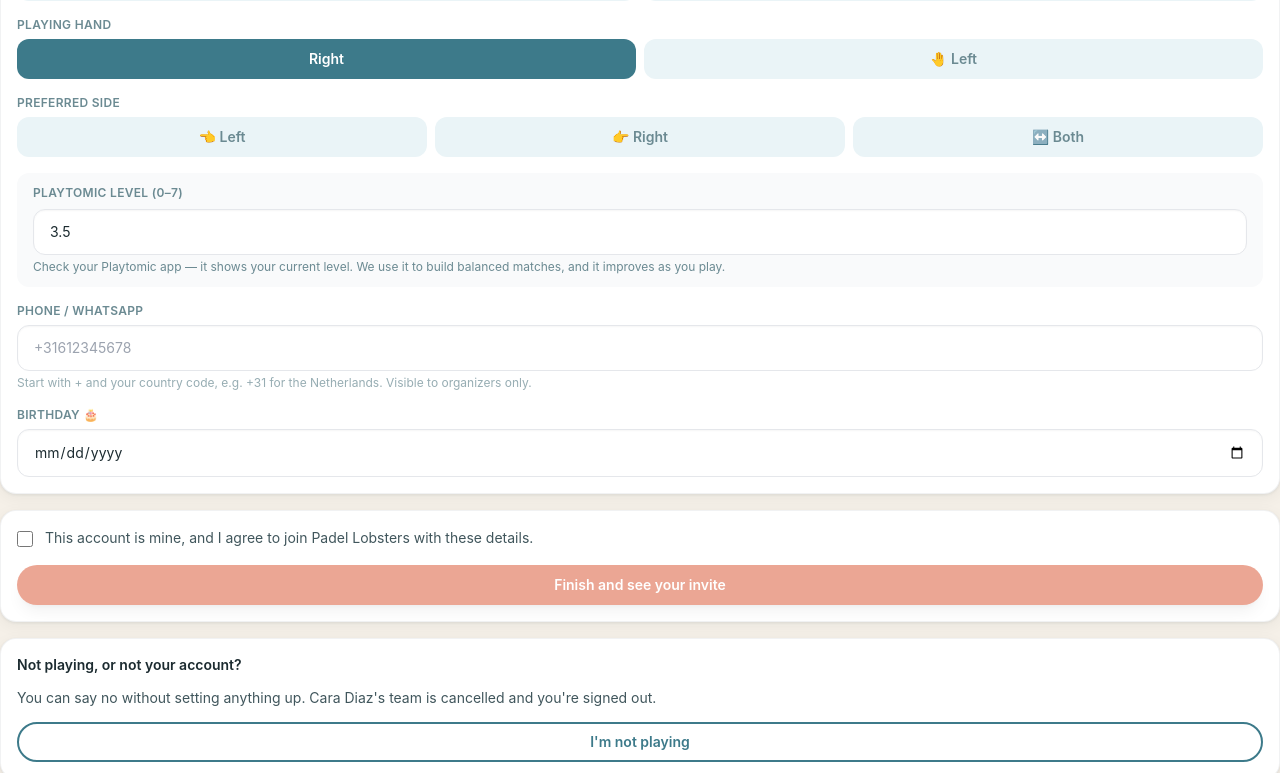
Test case: finish your account › shows what is missing instead of saving an incomplete profile
(page scrolled)
What coordinates should you click on to do the following:
click the checkbox
I would click on:
 (25, 538)
Its box is [17,530,33,546].
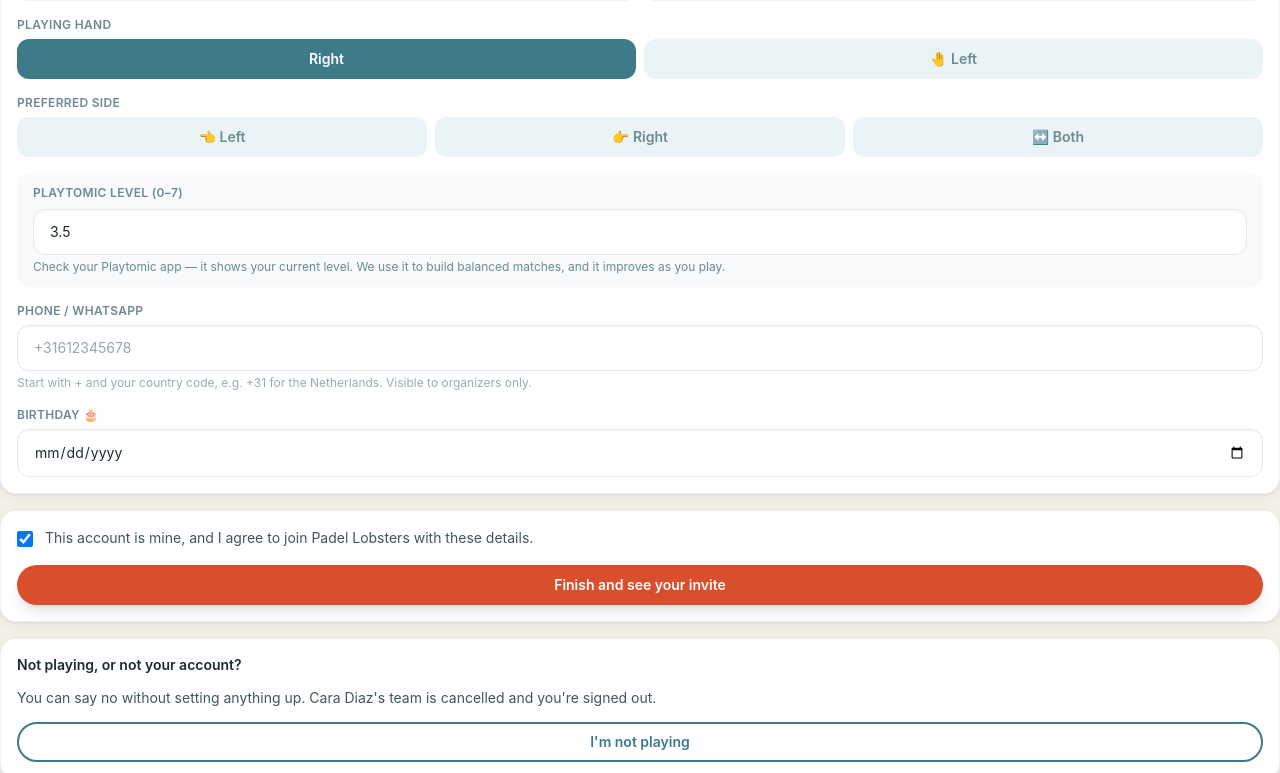
What coordinates should you click on to do the following:
click the button "Finish and see your invite"
I would click on:
 (640, 585)
Its box is [17,565,1263,605].
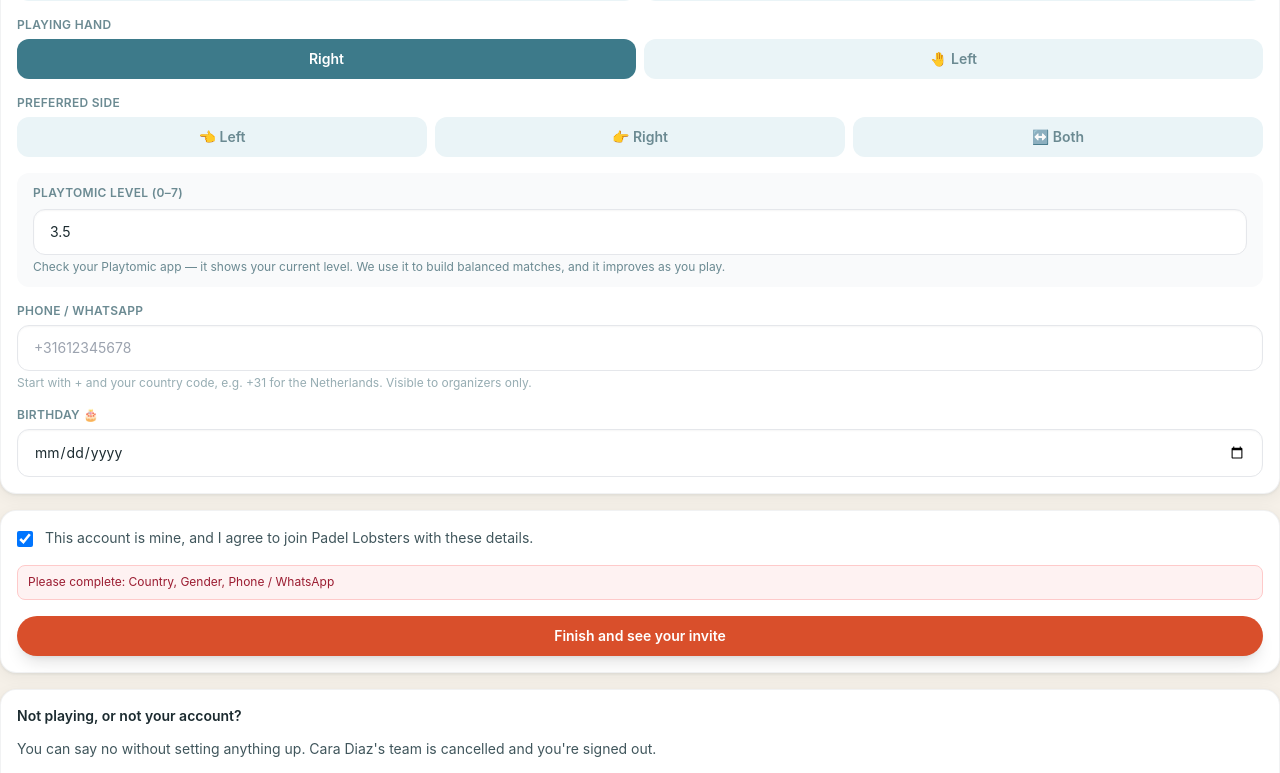
Expected: the message shows "Please complete", [28,574,334,589]
